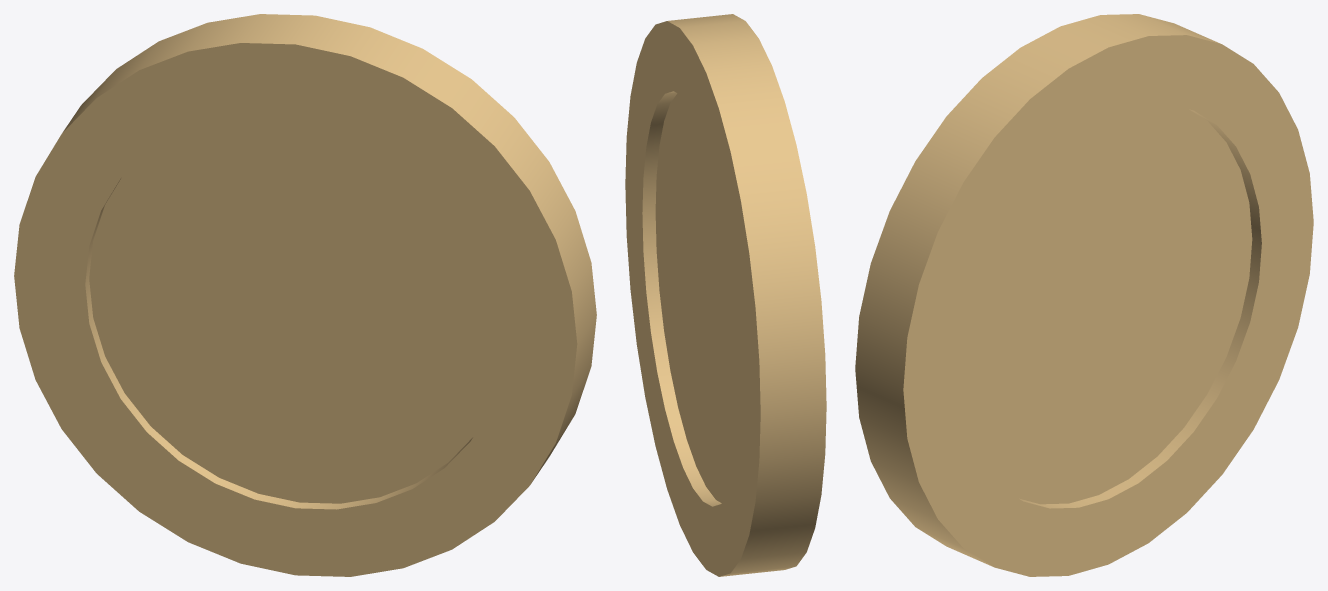
Rendered from coin  .fbx.
3 views of the same model, side by side, from view 1: azimuth 30°, elevation 25°; view 2: azimuth 150°, elevation 25°; view 3: azimuth 270°, elevation 25° (orthographic). The views are drawn at different scales.
Visible parts, largest first — view 1: Cylinder.003; view 2: Cylinder.003; view 3: Cylinder.003.
Boxes of the visible parts, x1,y1,x2,y2 form: Cylinder.003: (14,14,596,576); Cylinder.003: (625,14,826,576); Cylinder.003: (855,14,1313,576).
Bounding box in the file's own units: 64.55 × 82.53 × 66.32.
